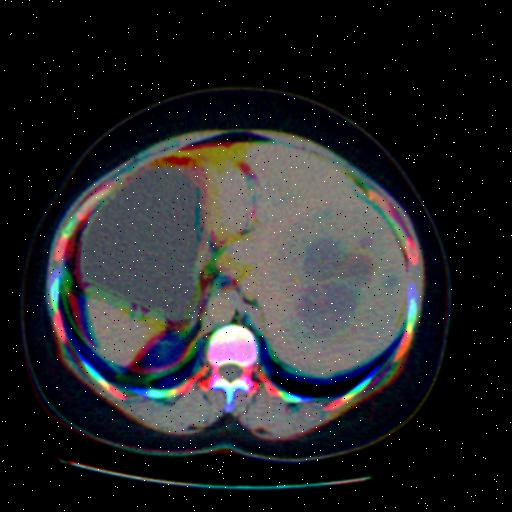Tumor: (301, 231, 377, 328)
